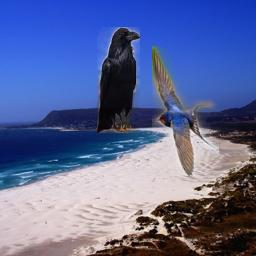Crow: (97, 27, 140, 133)
Swallow: (152, 46, 219, 176)
